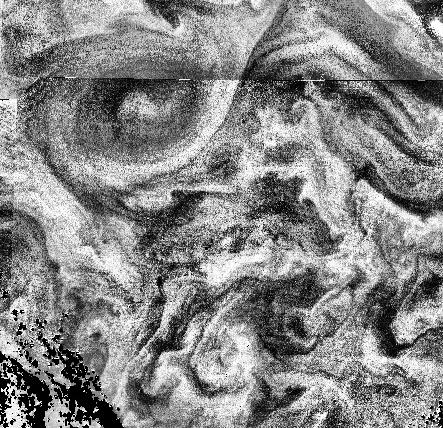AE: (33, 21, 243, 201)
